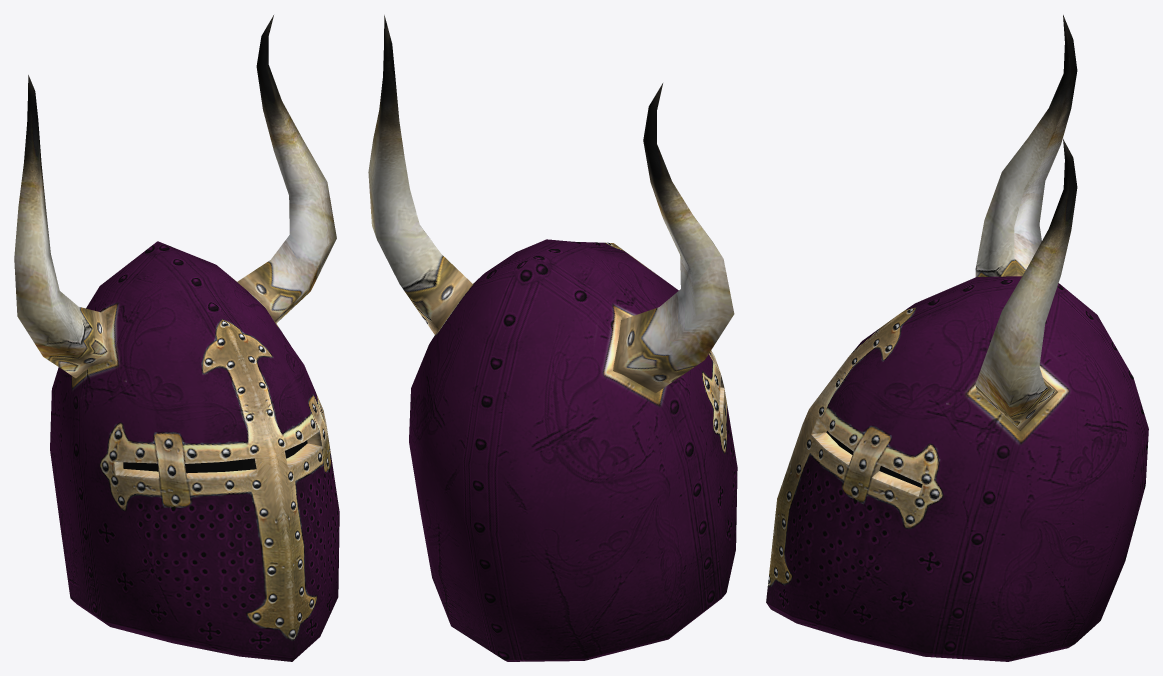
Rendered from Horned_Helmet_of_Glimmersteel.dae.
3 views of the same model, side by side, from view 1: azimuth 30°, elevation 25°; view 2: azimuth 150°, elevation 25°; view 3: azimuth 270°, elevation 25° (orthographic). The views are drawn at different scales.
Visible parts, largest first — view 1: Horned_Helmet_of_Gold_ground; view 2: Horned_Helmet_of_Gold_ground; view 3: Horned_Helmet_of_Gold_ground.
Boxes of the visible parts, left/top/right/bottom form: Horned_Helmet_of_Gold_ground: left=14, top=15, right=339, bottom=661; Horned_Helmet_of_Gold_ground: left=368, top=15, right=737, bottom=661; Horned_Helmet_of_Gold_ground: left=766, top=15, right=1148, bottom=661.
Bounding box in the file's own units: 0.2465 × 0.3911 × 0.2468.
Materials: 1 (1 with a texture image).
